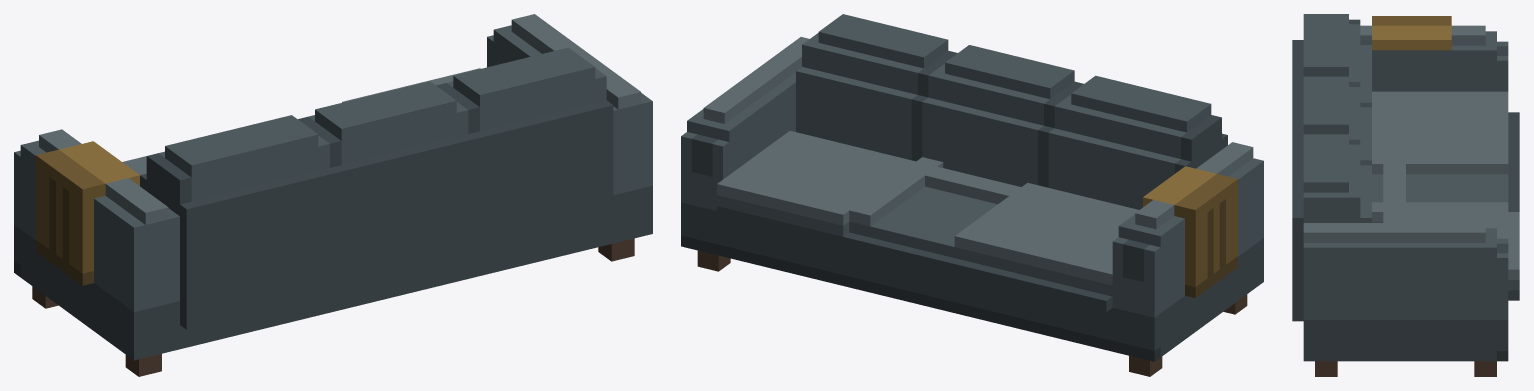
The model's file is Claude_sofa.glb.
The picture shows the model from 3 angles, left to right: view 1: azimuth 30°, elevation 25°; view 2: azimuth 150°, elevation 25°; view 3: azimuth 270°, elevation 25°; orthographic projection. The views are drawn at different scales.
Parts seen in each view (by area): view 1: Claude_sofa; view 2: Claude_sofa; view 3: Claude_sofa.
Part boxes in pixels (x1,y1,x2,y2): Claude_sofa: (14,14,652,376); Claude_sofa: (681,14,1263,376); Claude_sofa: (1292,14,1519,376).
Size of the model in its own units: 2.3 by 0.85 by 1.
